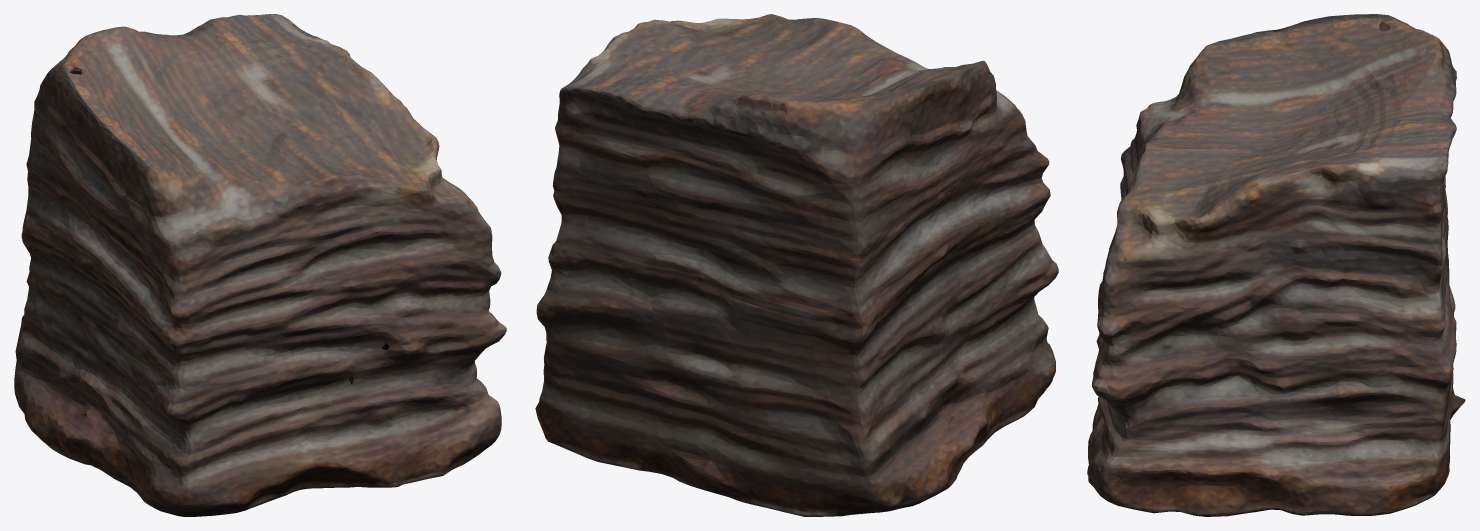
The picture shows the model from 3 angles, left to right: view 1: azimuth 30°, elevation 25°; view 2: azimuth 150°, elevation 25°; view 3: azimuth 270°, elevation 25°; orthographic projection. The views are drawn at different scales.
Parts seen in each view (by area): view 1: world; view 2: world; view 3: world.
Boxes of the visible parts, box(x1,y1,x2,y2) form: world: box(14, 14, 506, 516); world: box(535, 14, 1058, 516); world: box(1087, 14, 1465, 516).
Size of the model in its own units: 0.5778 by 0.5799 by 0.5502.
Materials: 1 (1 with a texture image).
